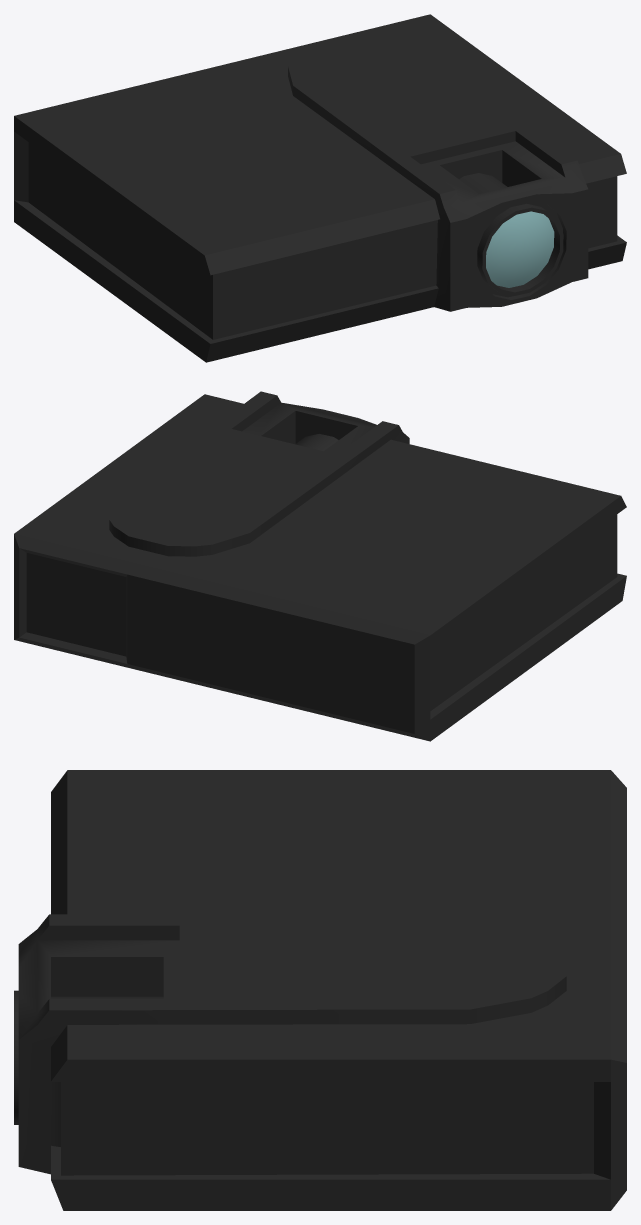
File: proyector.fbx
3 views of the same model, one above another, from view 1: azimuth 30°, elevation 25°; view 2: azimuth 150°, elevation 25°; view 3: azimuth 270°, elevation 25° (orthographic). The views are drawn at different scales.
Parts seen in each view (by area): view 1: Plane.002; view 2: Plane.002; view 3: Plane.002.
Part boxes in pixels (box(x1,y1,x2,y2)): Plane.002: box(14, 14, 626, 362); Plane.002: box(14, 391, 626, 741); Plane.002: box(14, 770, 626, 1210).
Size of the model in its own units: 71.92 by 19.38 by 64.33.
